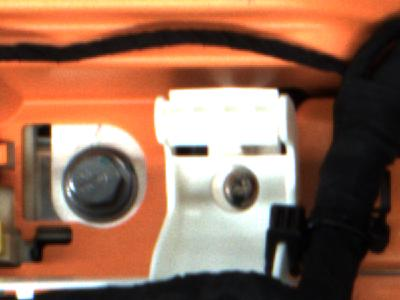nut_b: (60, 143, 149, 221)
